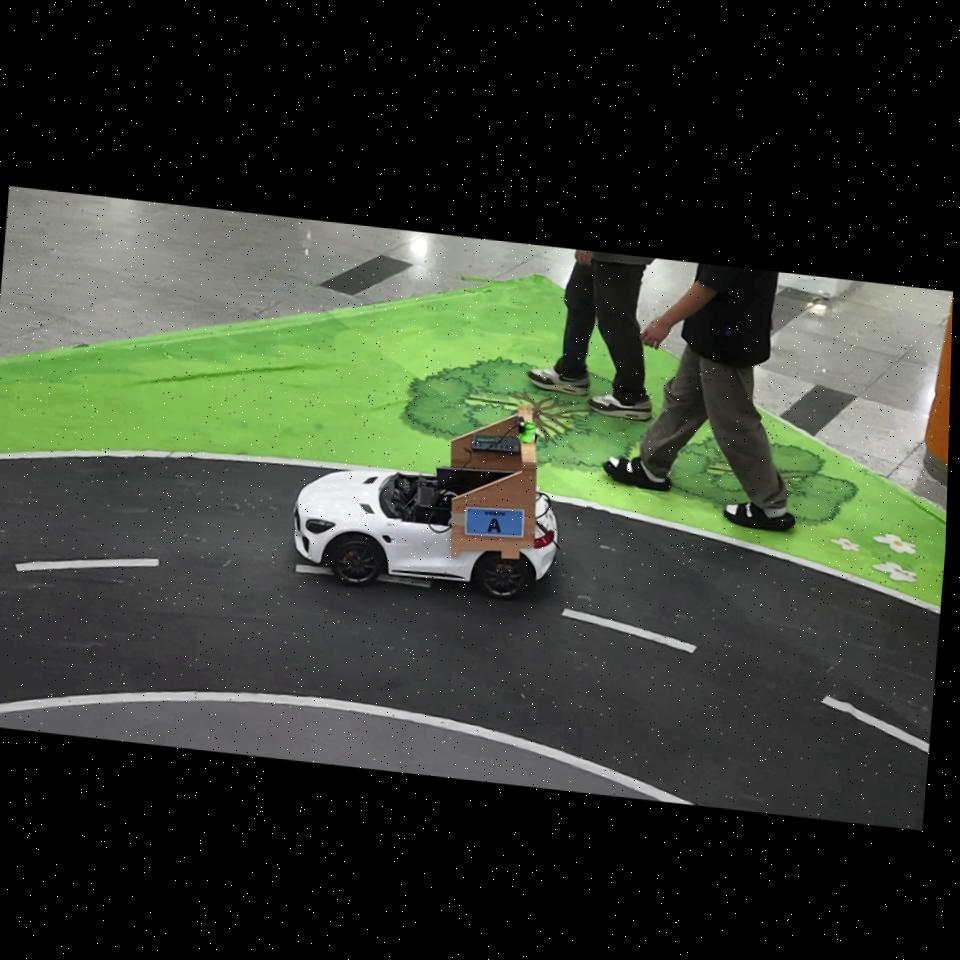broken_line: (821, 696, 929, 753), (562, 609, 696, 653), (15, 558, 159, 572), (378, 575, 431, 588), (295, 564, 332, 575)
